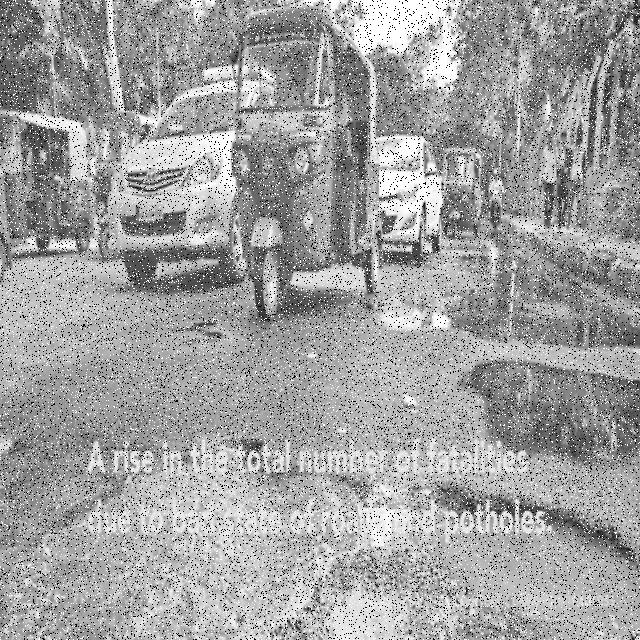pothole: (26, 465, 640, 638)
